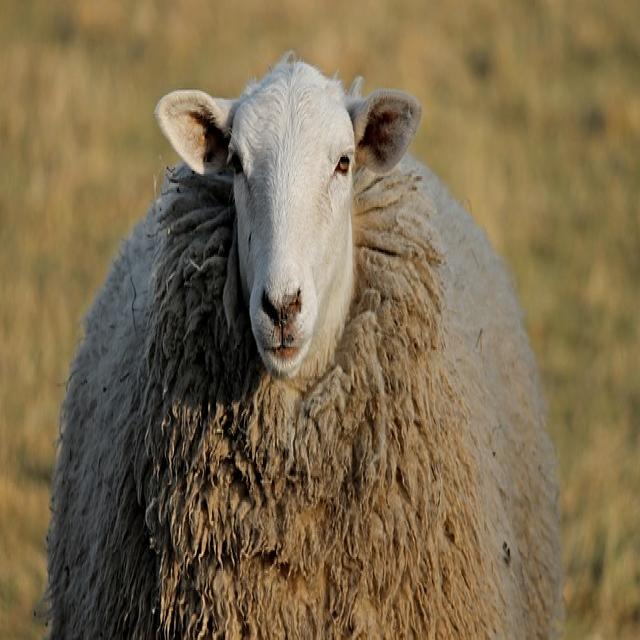sheep: (34, 50, 566, 638)
